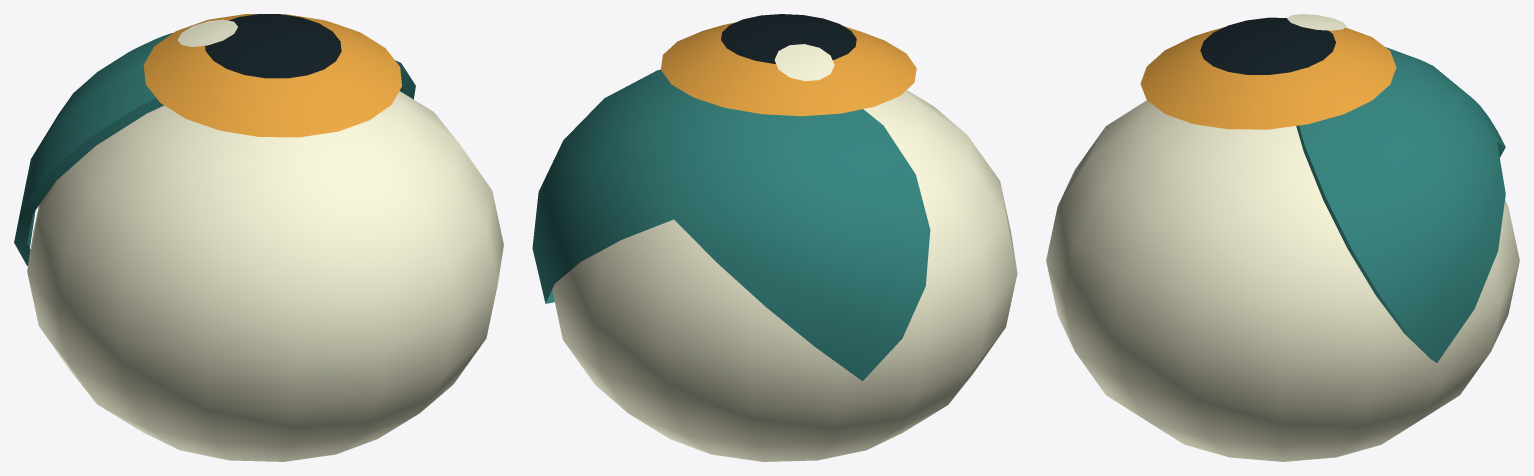
File: eye_sleepy.glb
3 renders of one model, left to right at view 1: azimuth 30°, elevation 25°; view 2: azimuth 150°, elevation 25°; view 3: azimuth 270°, elevation 25°, orthographic.
Visible parts, largest first — view 1: eye_sleepy, eye_sleepy_pupil, eye_sleepy_lid; view 2: eye_sleepy, eye_sleepy_lid, eye_sleepy_pupil; view 3: eye_sleepy, eye_sleepy_lid, eye_sleepy_pupil.
Boxes of the visible parts, x1,y1,x2,y2 form: eye_sleepy: (27, 91, 503, 461); eye_sleepy_pupil: (143, 14, 401, 137); eye_sleepy_lid: (14, 32, 415, 265); eye_sleepy: (552, 90, 1017, 461); eye_sleepy_lid: (532, 69, 930, 381); eye_sleepy_pupil: (661, 14, 916, 116); eye_sleepy: (1046, 100, 1519, 461); eye_sleepy_lid: (1296, 47, 1505, 362); eye_sleepy_pupil: (1140, 14, 1396, 129).
Bounding box in the file's own units: 0.4 × 0.3737 × 0.4.
